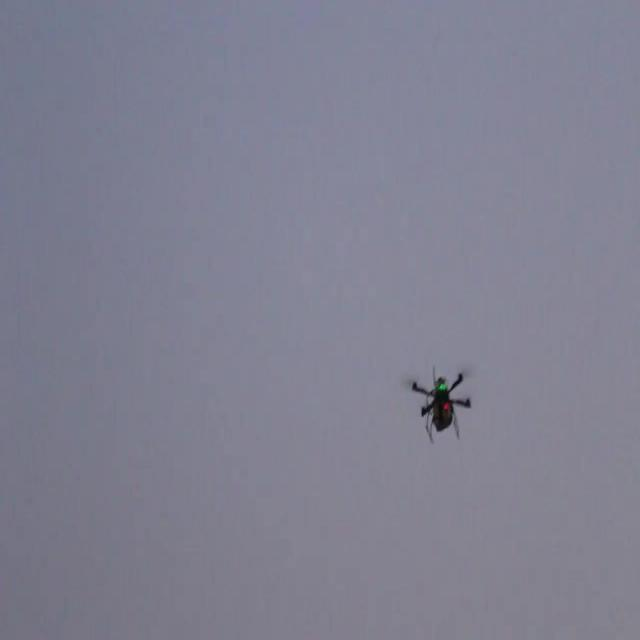UAV: (404, 364, 472, 446)
